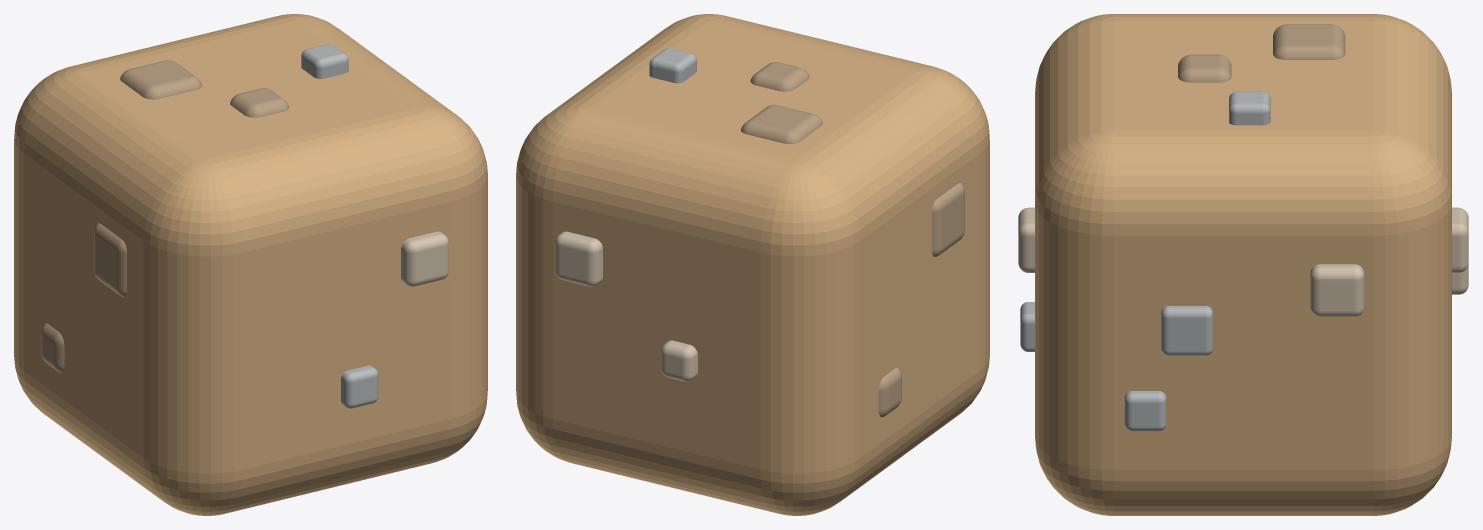
Rendered from dirt.glb.
3 views of the same model, side by side, from view 1: azimuth 30°, elevation 25°; view 2: azimuth 150°, elevation 25°; view 3: azimuth 270°, elevation 25° (orthographic). The views are drawn at different scales.
Visible parts, largest first — view 1: Mesh_Mesh_head_geo.001_lambert2SG.001; view 2: Mesh_Mesh_head_geo.001_lambert2SG.001; view 3: Mesh_Mesh_head_geo.001_lambert2SG.001.
Boxes of the visible parts, x1,y1,x2,y2 form: Mesh_Mesh_head_geo.001_lambert2SG.001: (14,14,487,515); Mesh_Mesh_head_geo.001_lambert2SG.001: (516,14,989,515); Mesh_Mesh_head_geo.001_lambert2SG.001: (1018,14,1468,515).
Size of the model in its own units: 21.1 by 22 by 21.6.
